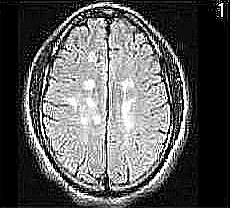Normal_Brain: (1, 1, 232, 208)
